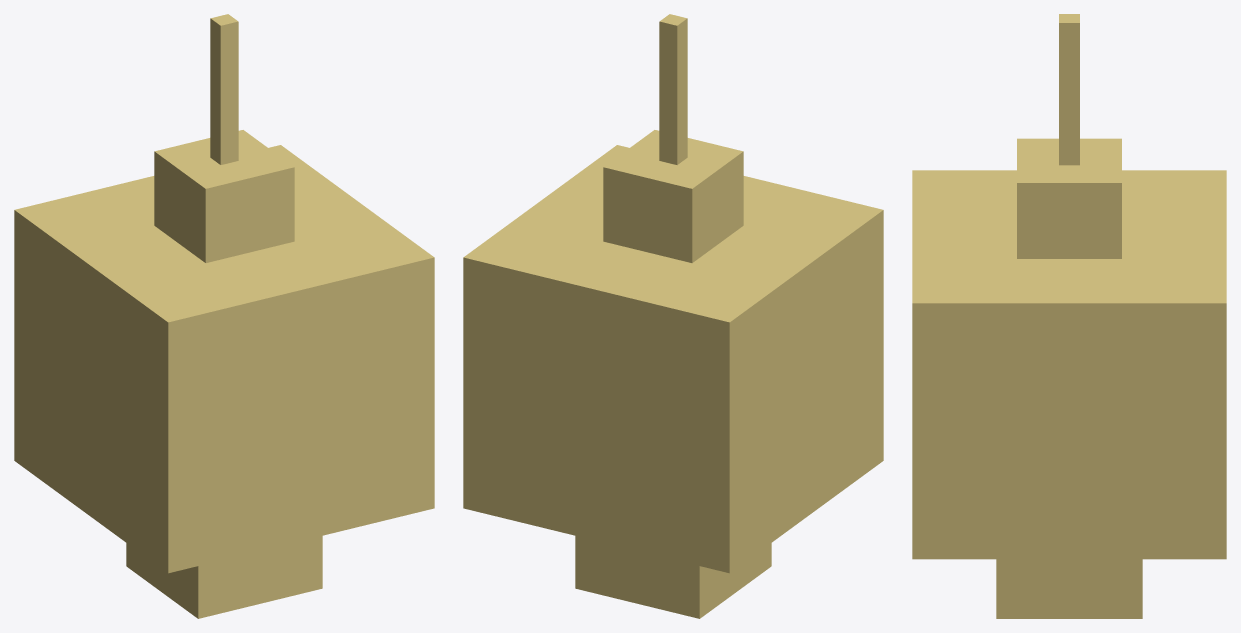
The model's file is pendant.glb.
3 views of the same model, side by side, from view 1: azimuth 30°, elevation 25°; view 2: azimuth 150°, elevation 25°; view 3: azimuth 270°, elevation 25° (orthographic). The views are drawn at different scales.
Size of the model in its own units: 0.3 by 0.6 by 0.3.
